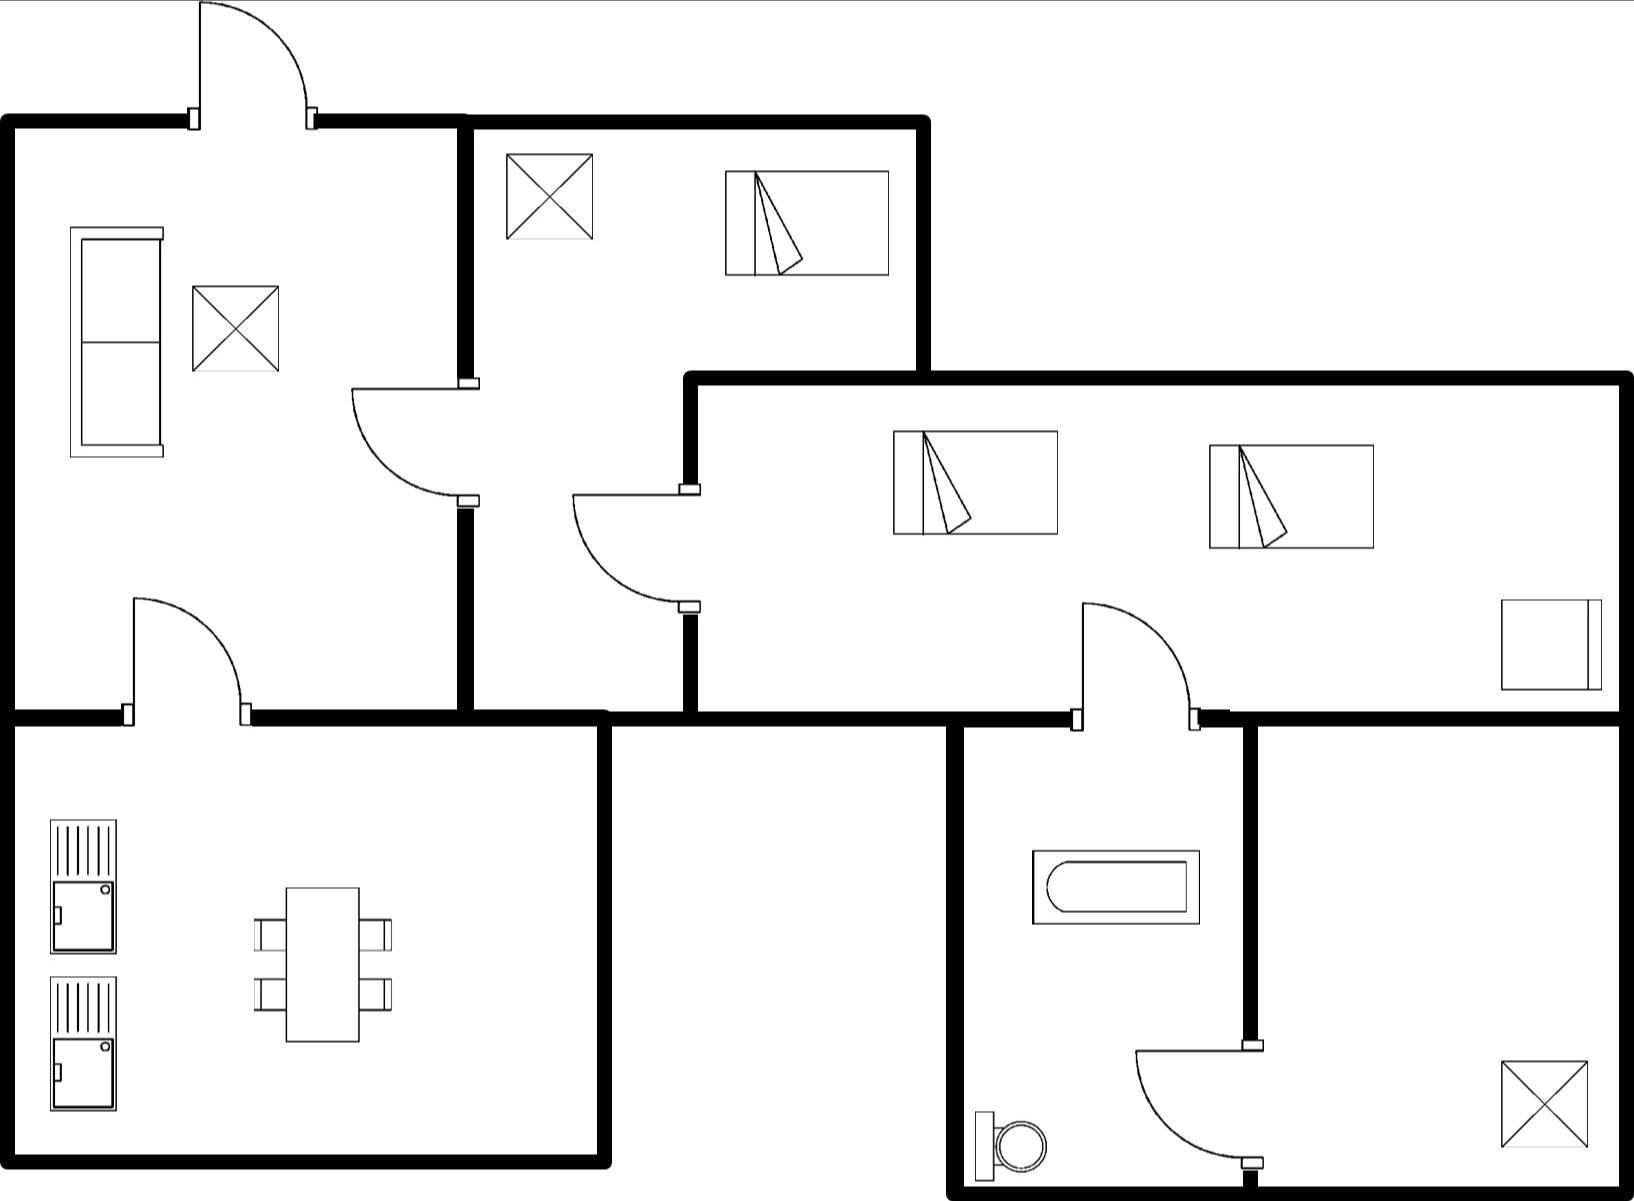bed: (716, 156, 902, 287), (1195, 431, 1384, 559), (879, 420, 1068, 544)
dining_table: (244, 878, 400, 1050)
sink: (38, 810, 129, 963), (42, 965, 126, 1121)
sofa: (56, 218, 171, 465)
toilet: (969, 1100, 1049, 1185)
tub: (1020, 840, 1206, 933)
